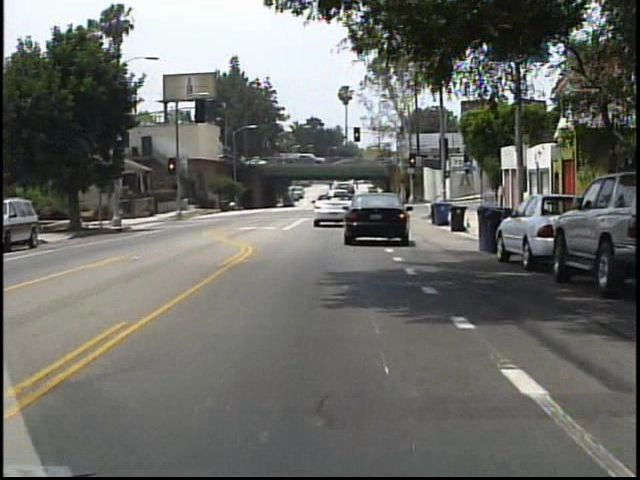person: (44, 200, 62, 234)
